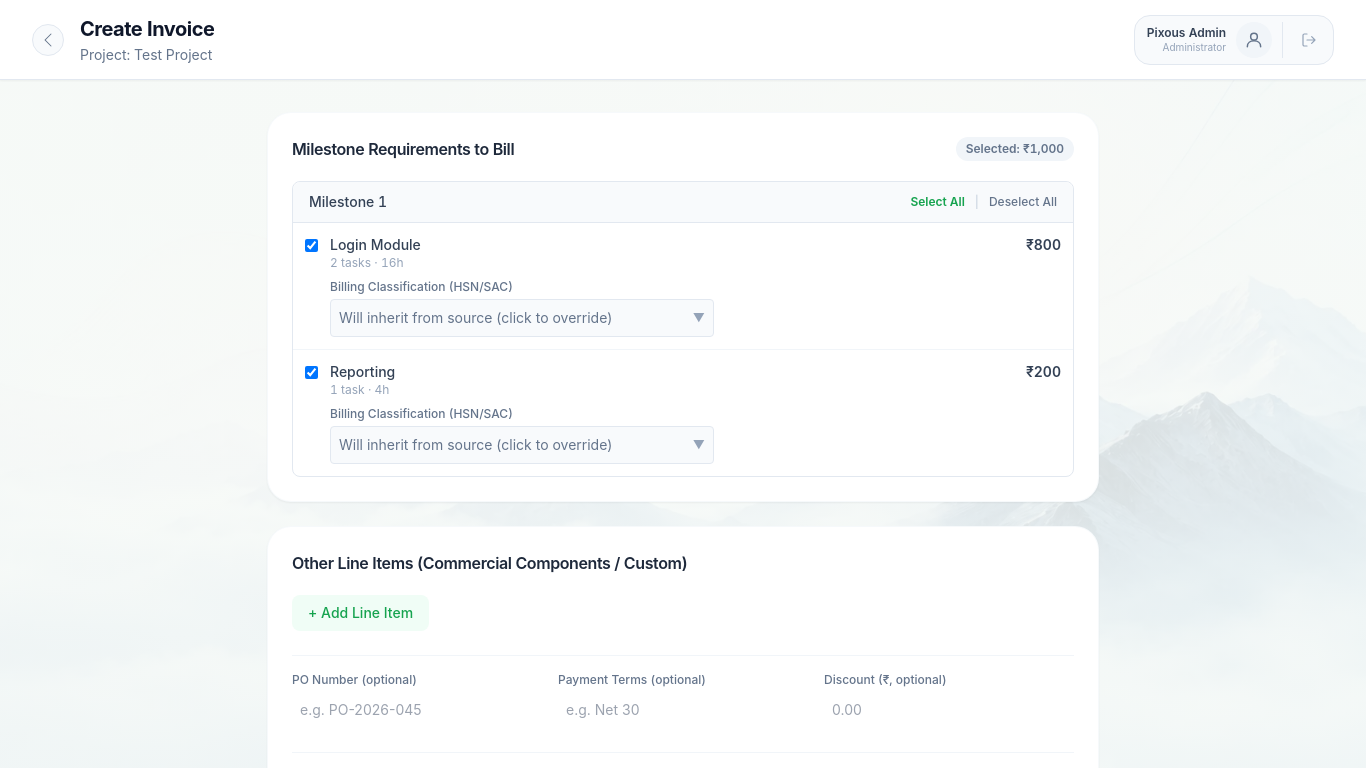
NewInvoiceV2 › "Select All" restores every requirement after a Deselect All
Check: the text "Login Module" is shown, box [330,235,421,255]
Click the button "Deselect All". click: (1023, 202)
box: [989,194,1057,210]
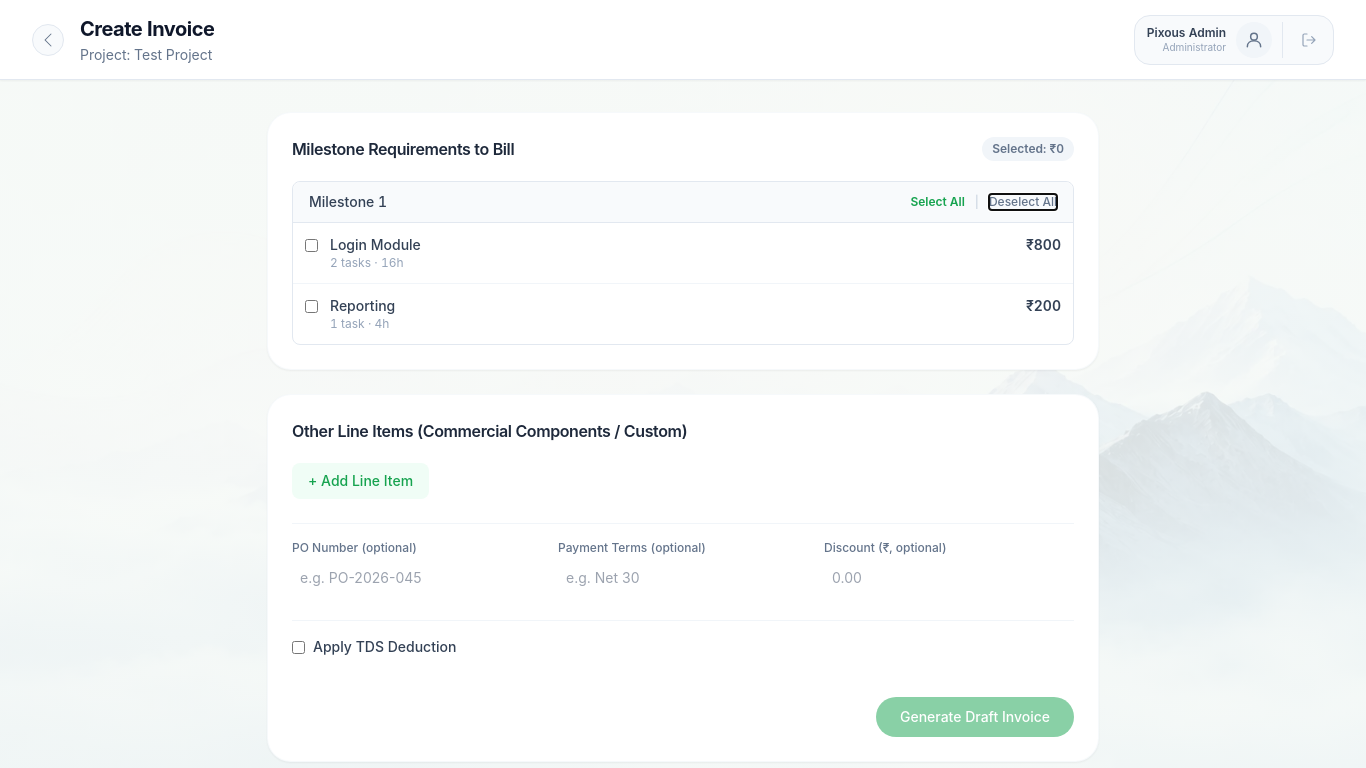
Click the button "Select All". click: (938, 202)
box: [910,194,965,210]
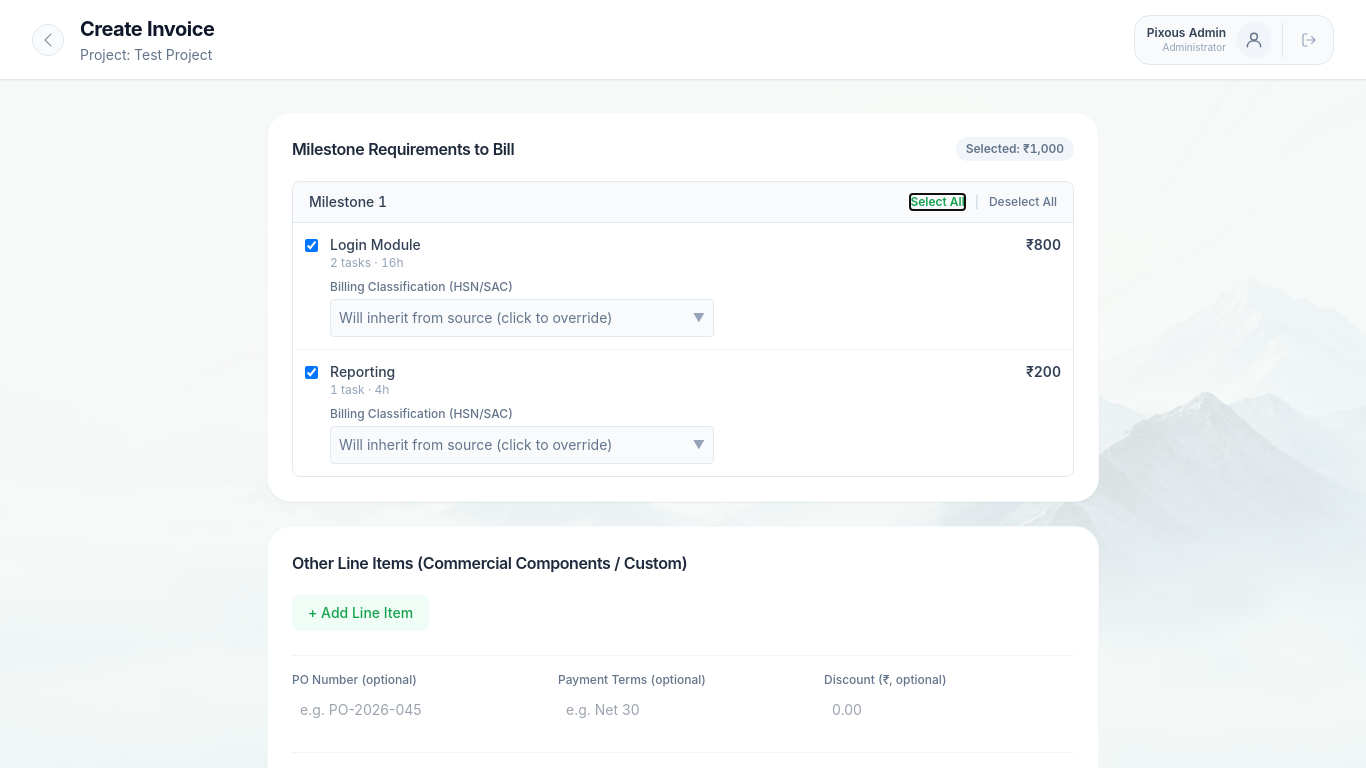
Check: the text "Selected: ₹1,000" is shown, box [956,137,1074,161]
